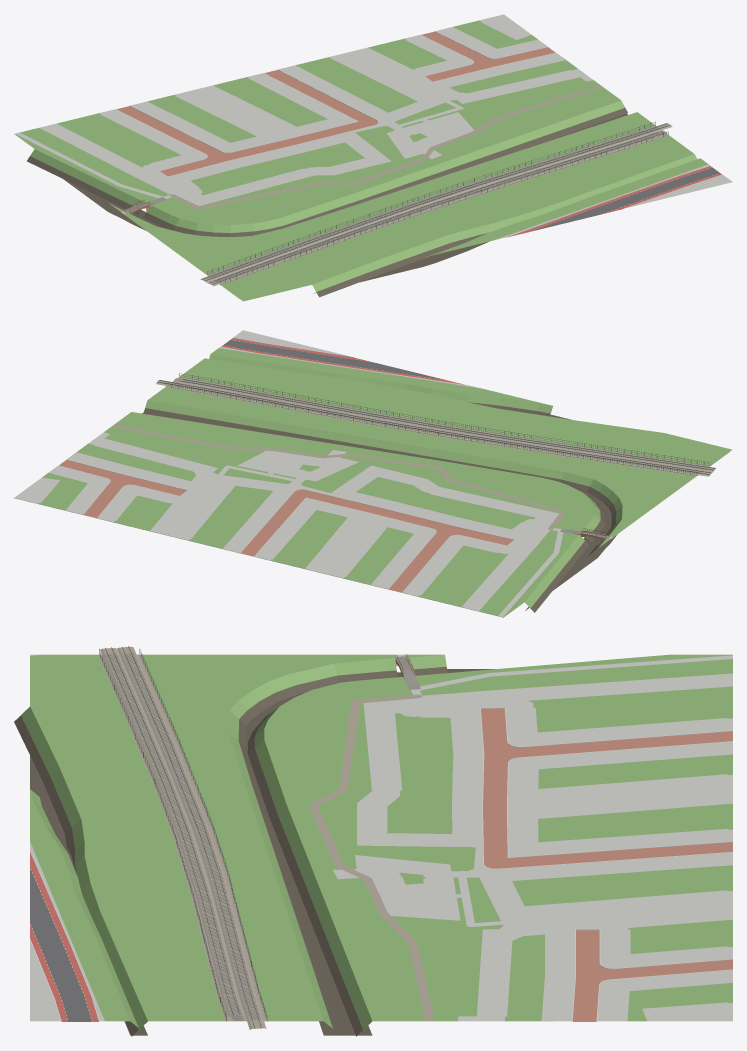
File: ground_9_5.glb
The picture shows the model from 3 angles, top to bottom: view 1: azimuth 30°, elevation 25°; view 2: azimuth 150°, elevation 25°; view 3: azimuth 270°, elevation 25°; orthographic projection. The views are drawn at different scales.
Parts seen in each view (by area): view 1: ground_9_5; view 2: ground_9_5; view 3: ground_9_5.
Boxes of the visible parts, x1,y1,x2,y2 form: ground_9_5: (14,14,732,301); ground_9_5: (14,330,732,617); ground_9_5: (14,646,732,1036).
Size of the model in its own units: 209 by 5.17 by 166.
